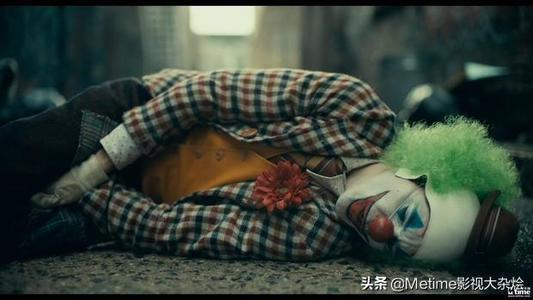Fall-Detected: (0, 54, 533, 269)
